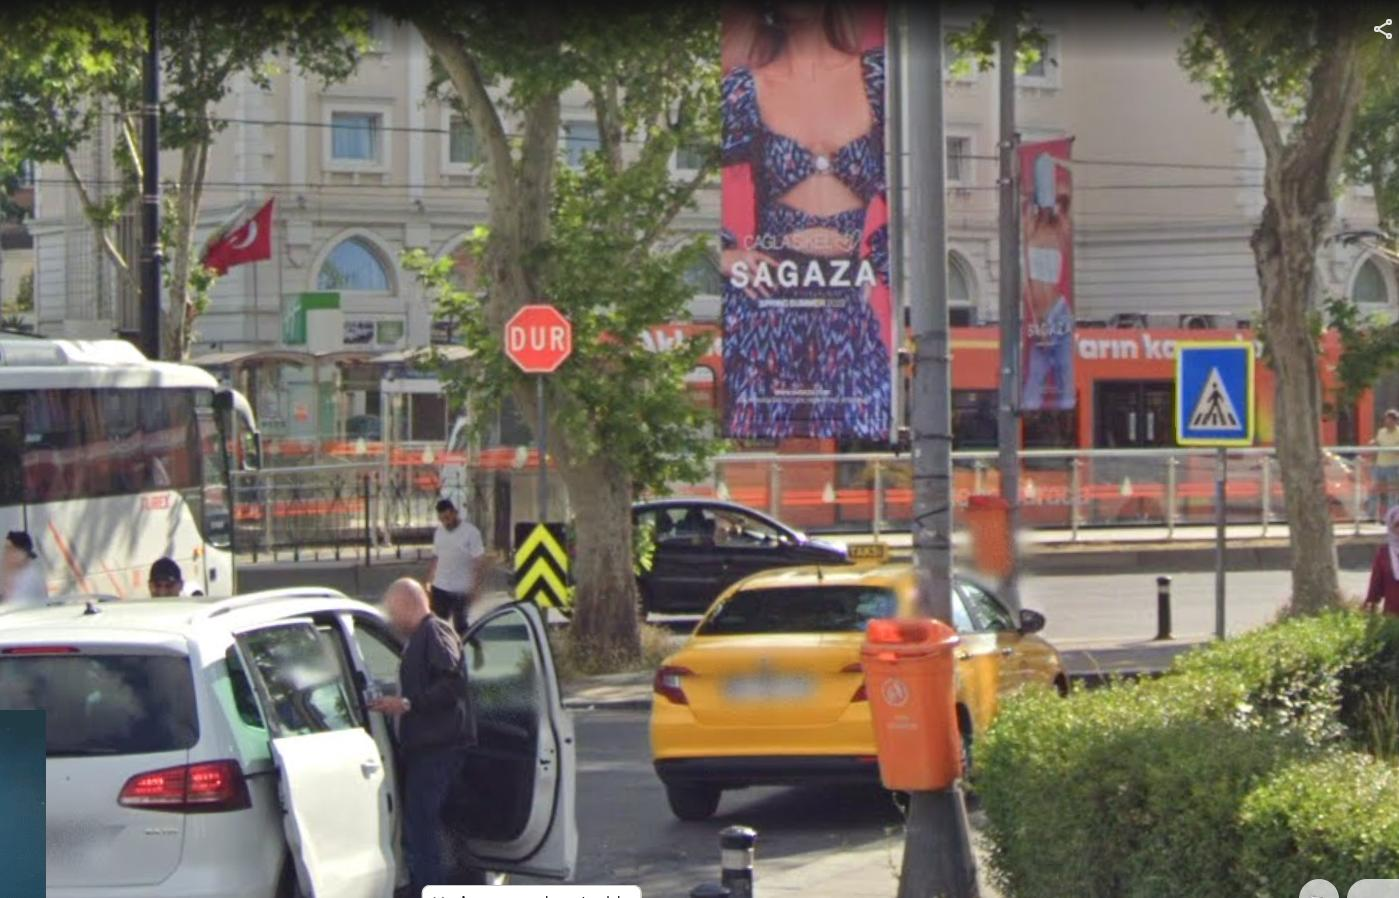stop: (504, 306, 572, 371)
